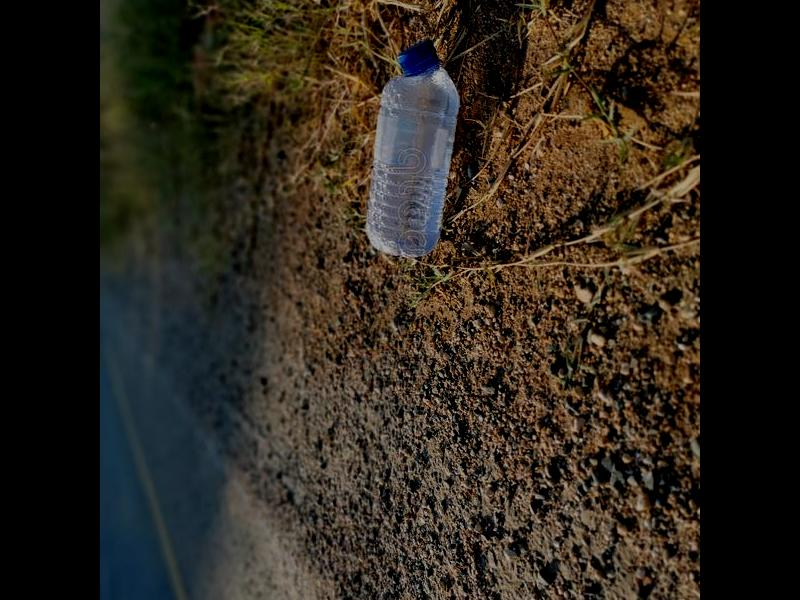bottle: (356, 38, 469, 268)
